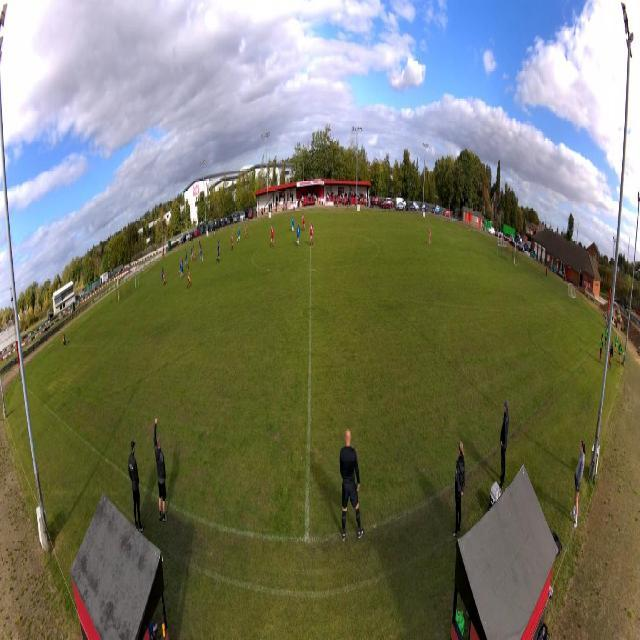ball: (253, 219, 254, 221)
player: (308, 220, 314, 247), (297, 223, 301, 247), (187, 265, 191, 289), (271, 224, 275, 248), (301, 213, 306, 230), (216, 244, 220, 264), (181, 260, 185, 279), (200, 244, 204, 262), (244, 223, 248, 240), (291, 217, 295, 233), (237, 226, 241, 241), (428, 226, 431, 246), (218, 237, 221, 256), (185, 248, 188, 267), (163, 269, 166, 286), (193, 245, 196, 262), (137, 272, 140, 289), (232, 232, 234, 250), (198, 239, 200, 255), (191, 244, 193, 260), (162, 264, 164, 278), (181, 255, 182, 269), (180, 260, 181, 274)
